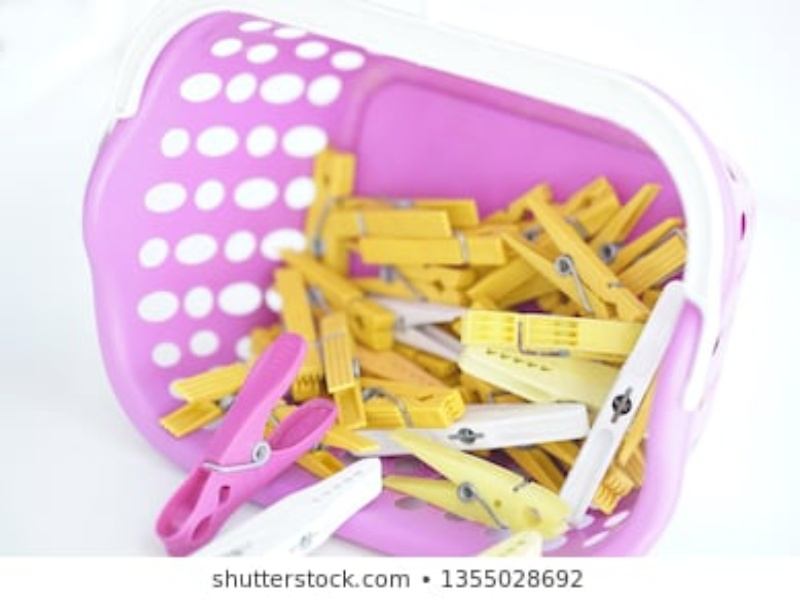plastic-peg: (138, 342, 347, 541), (382, 422, 576, 530), (497, 196, 665, 318), (275, 248, 412, 347), (321, 180, 488, 232), (329, 375, 464, 433), (589, 183, 676, 267)
